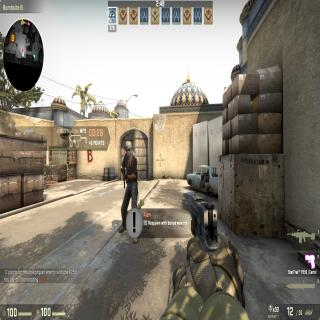T-Body: (118, 140, 141, 236)
T-Head: (124, 138, 134, 158)
